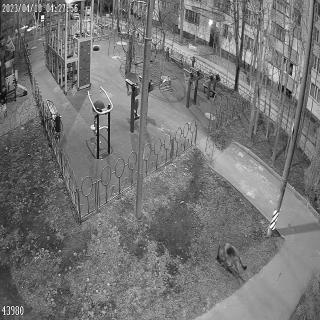dog: (216, 242, 248, 278)
